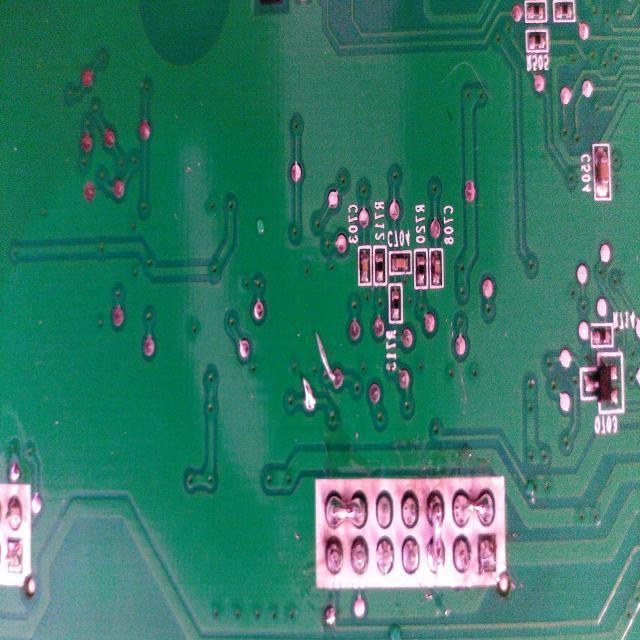Soldering bridge: (324, 490, 369, 534), (454, 484, 494, 532), (426, 489, 445, 578)
